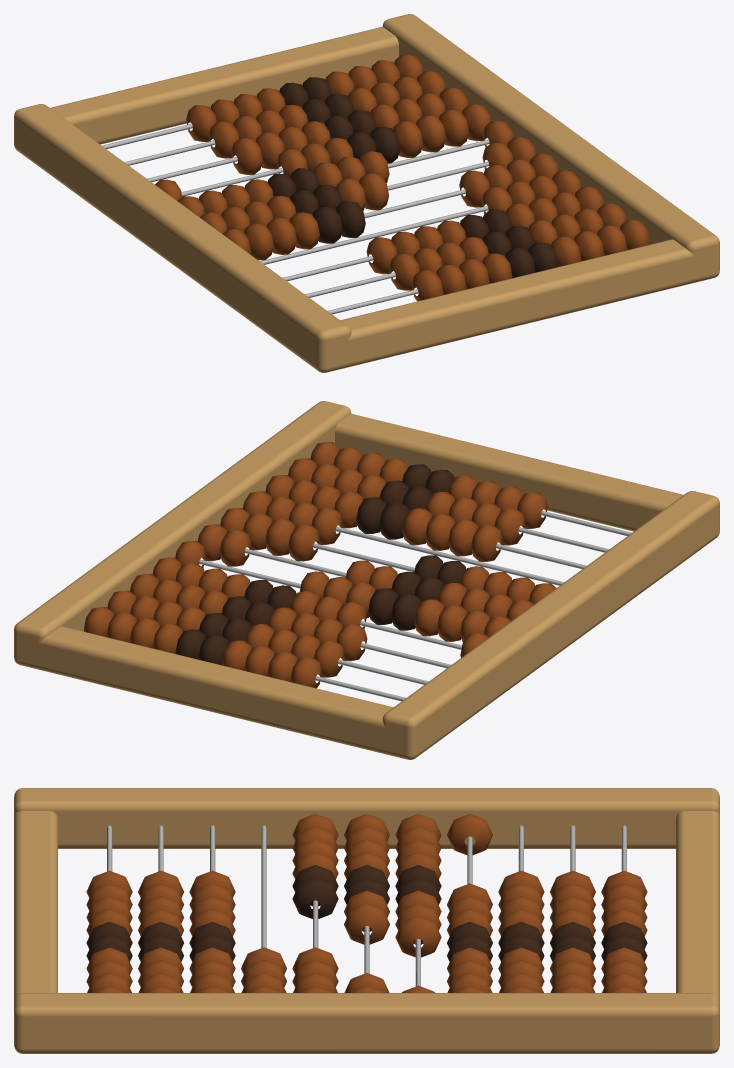
Rendered from schety.glb.
3 renders of one model, top to bottom at view 1: azimuth 30°, elevation 25°; view 2: azimuth 150°, elevation 25°; view 3: azimuth 270°, elevation 25°, orthographic. The views are drawn at different scales.
Parts seen in each view (by area): view 1: Рамка, Костяшки, Костяшки тёмные, Спицы; view 2: Рамка, Костяшки, Костяшки тёмные, Спицы; view 3: Рамка, Костяшки, Костяшки тёмные, Спицы.
Part boxes in pixels (bbox=[...]): Рамка: bbox=[14, 14, 719, 372]; Костяшки: bbox=[155, 54, 649, 301]; Костяшки тёмные: bbox=[267, 77, 558, 278]; Спицы: bbox=[102, 124, 489, 314]; Рамка: bbox=[14, 401, 719, 759]; Костяшки: bbox=[84, 441, 556, 688]; Костяшки тёмные: bbox=[175, 464, 466, 665]; Спицы: bbox=[199, 511, 631, 701]; Рамка: bbox=[14, 788, 719, 1053]; Костяшки: bbox=[86, 814, 647, 992]; Костяшки тёмные: bbox=[86, 865, 647, 961]; Спицы: bbox=[107, 825, 626, 986].
Size of the model in its own units: 0.24 by 0.024 by 0.32.
